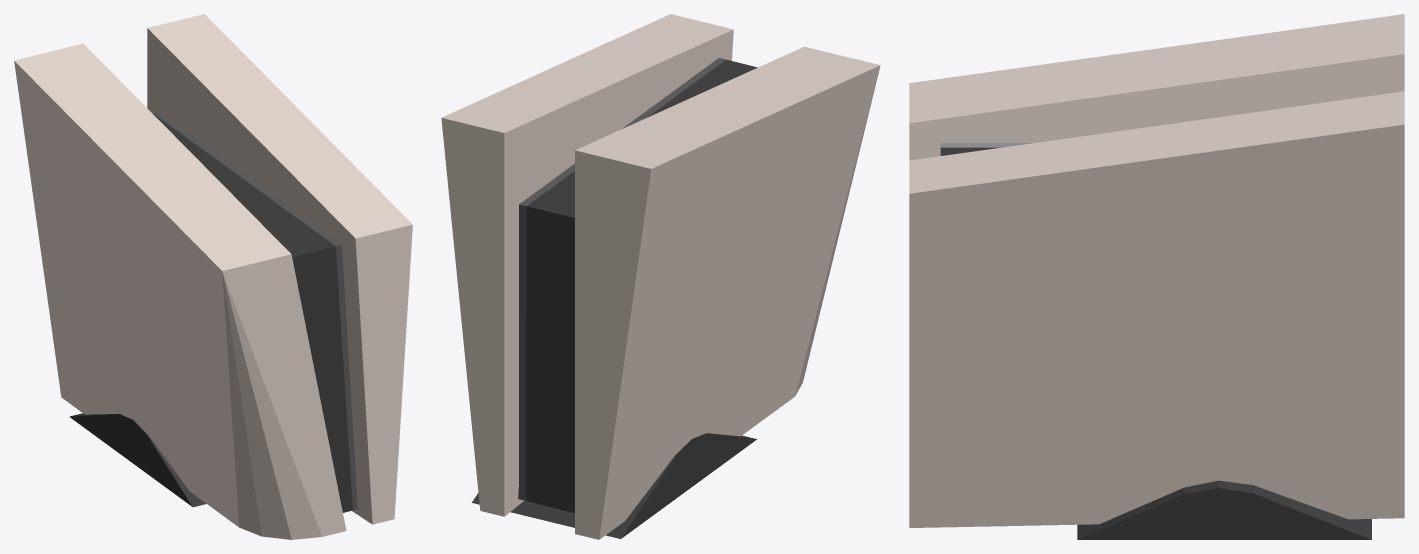
The model's file is Game_console_1.fbx.
3 renders of one model, left to right at view 1: azimuth 30°, elevation 25°; view 2: azimuth 150°, elevation 25°; view 3: azimuth 270°, elevation 25°, orthographic. The views are drawn at different scales.
Visible parts, largest first — view 1: Game_console_1; view 2: Game_console_1; view 3: Game_console_1.
Boxes of the visible parts, left/top/right/bottom form: Game_console_1: left=14, top=14, right=412, bottom=539; Game_console_1: left=441, top=14, right=880, bottom=539; Game_console_1: left=909, top=14, right=1404, bottom=539.
Bounding box in the file's own units: 13.28 × 25.13 × 23.71.
